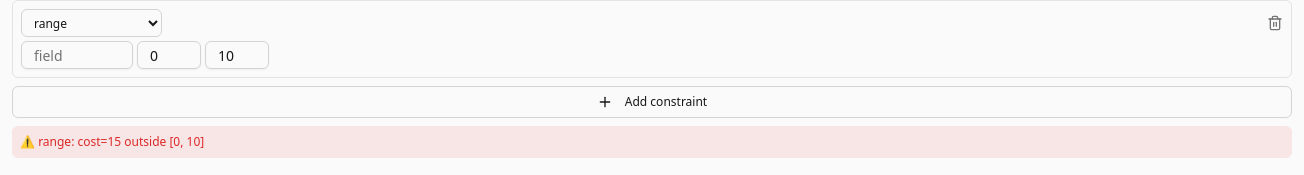
Test: ConstraintsEditor › switching kind swaps the param inputs
Expected: the number field named "min" is shown, [137,41,201,69]
Step 1. Select "required_tag" in the dropdown named "constraint 0 kind" → (92, 23), box [21,9,162,37]
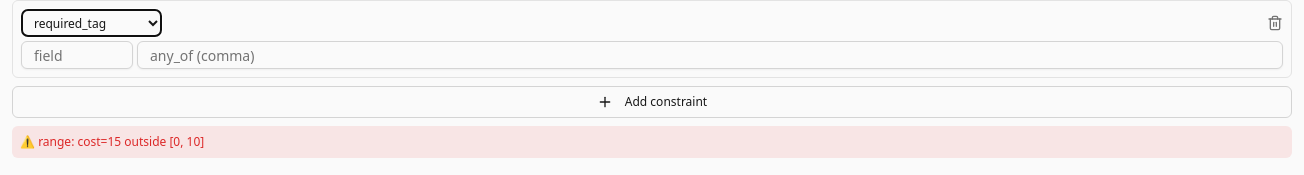
Expected: the field labelled "any_of" is shown, [137,41,1283,69]
